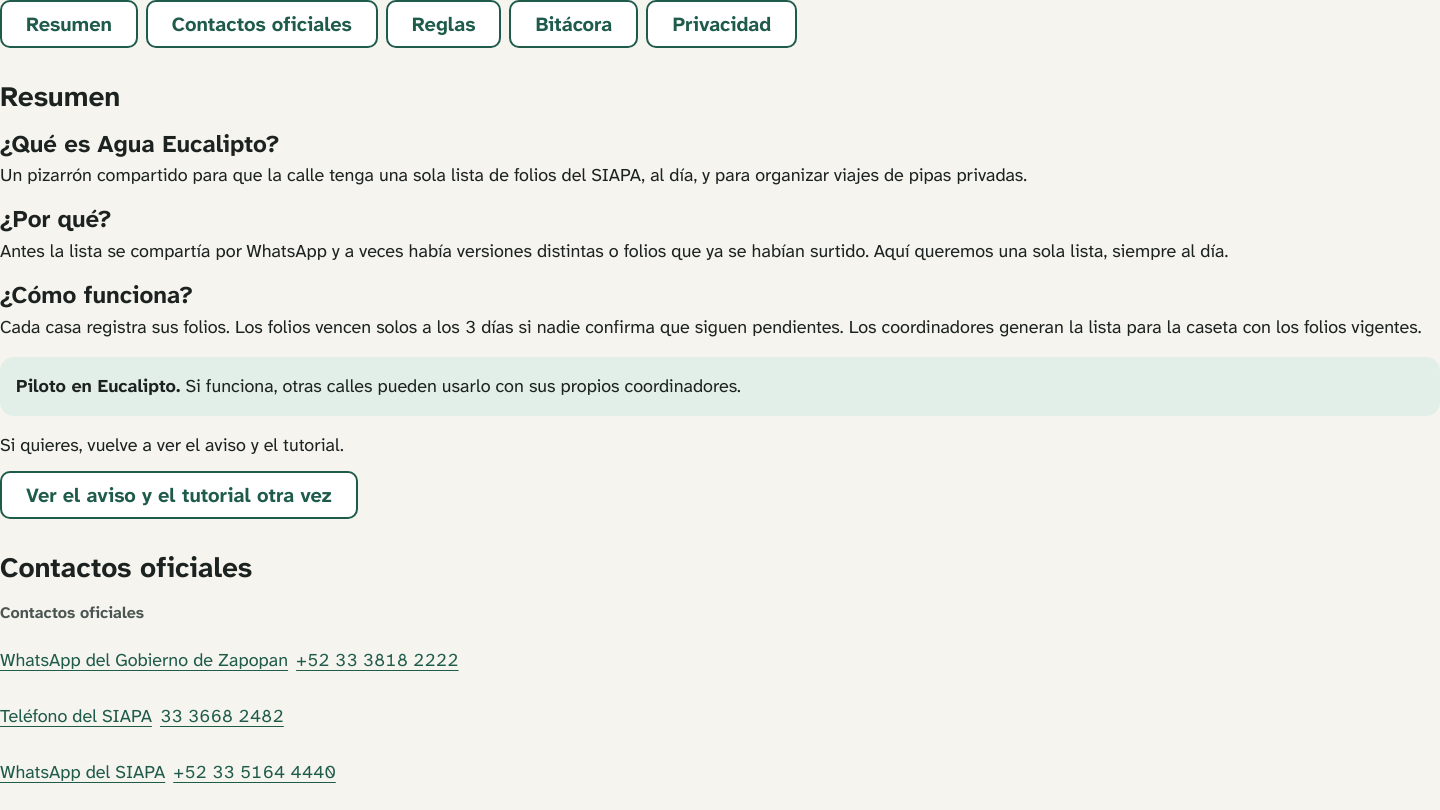
Test: Información › los contactos son enlaces de texto y el teléfono del SIAPA no ofrece WhatsApp
Click the button "Teléfono del SIAPA 33 3668 2482": point(76, 716) [0,693,1439,741]
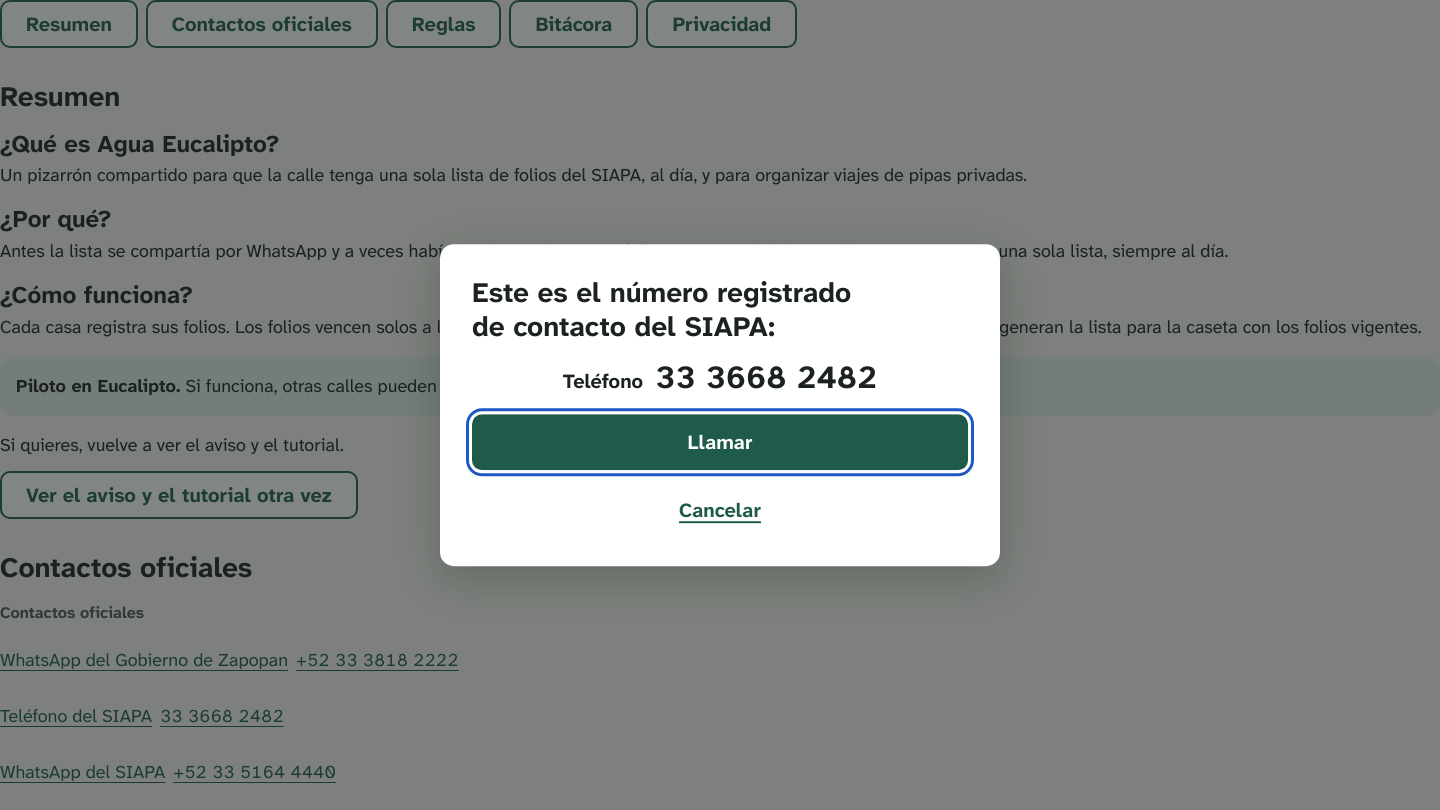
Click the button "Cancelar": point(720, 510) [472,486,968,534]
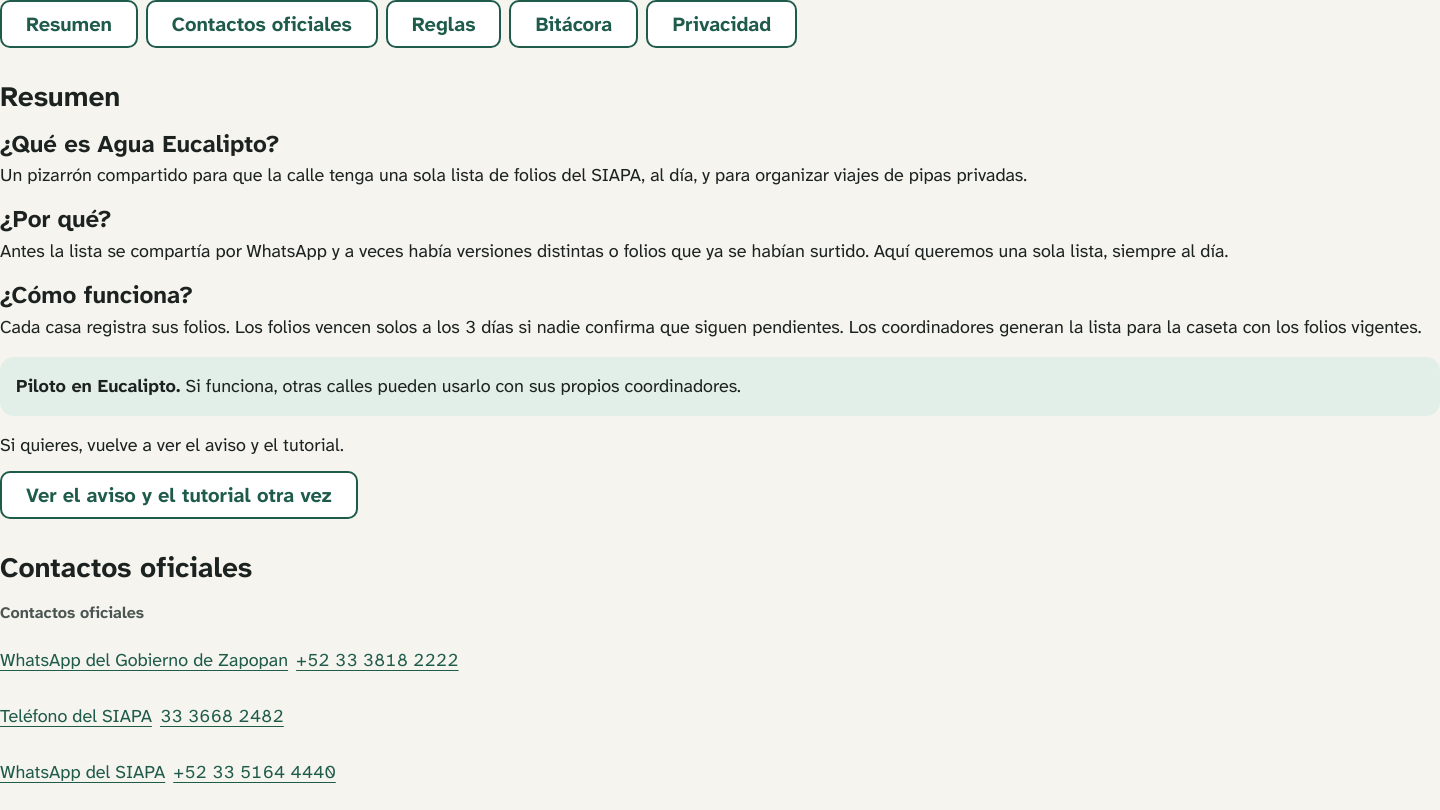
Now the dialog is gone
